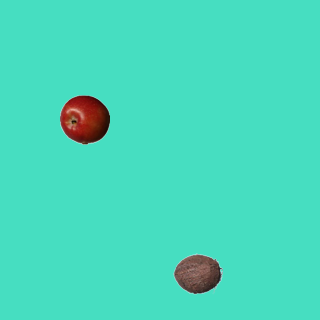Apple Braeburn: (59, 94, 109, 144)
Cocos: (172, 248, 222, 298)
